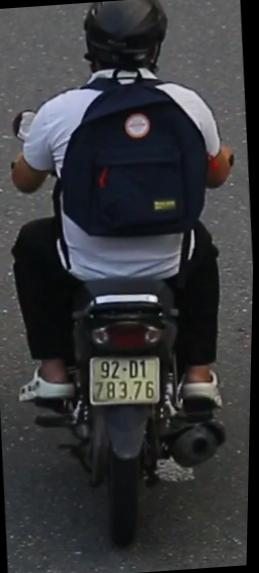LP: (84, 348, 167, 412)
helmet: (74, 0, 174, 98)
